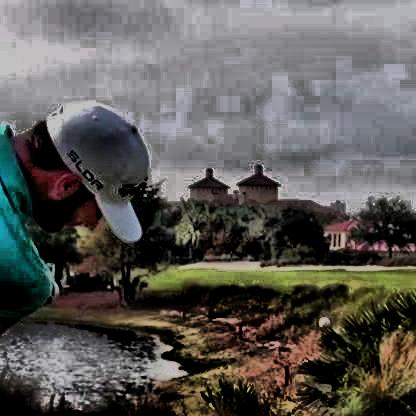golfball: (315, 314, 329, 327)
